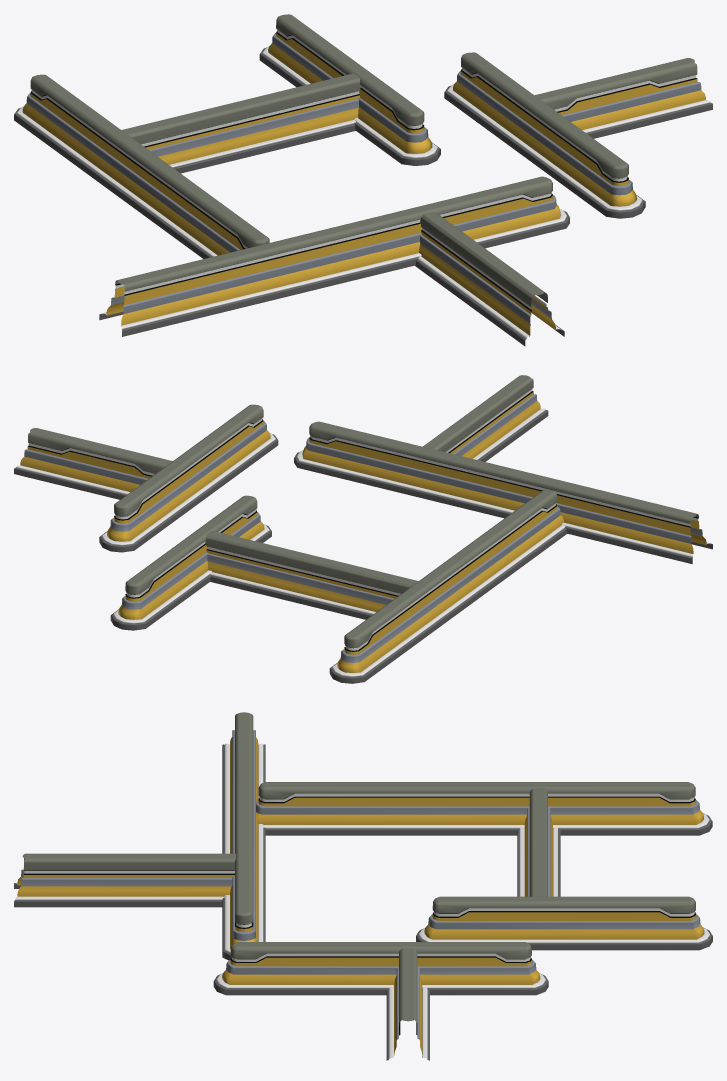
Rendered from Level37_Small_walls.fbx.
The picture shows the model from 3 angles, top to bottom: view 1: azimuth 30°, elevation 25°; view 2: azimuth 150°, elevation 25°; view 3: azimuth 270°, elevation 25°; orthographic projection. The views are drawn at different scales.
Visible parts, largest first — view 1: Small_wallv1_41, Small_wallv1_40, Small_wall_L47, Small_wallv1_20, Small_wallv1_21, Small_wall_L64, Small_wallv1_4; view 2: Small_wallv1_41, Small_wallv1_40, Small_wall_L47, Small_wallv1_20, Small_wallv1_21, Small_wallv1_4, Small_wall_L64; view 3: Small_wallv1_40, Small_wallv1_20, Small_wallv1_21, Small_wall_L64, Small_wallv1_41, Small_wall_L47, Small_wallv1_4.
Boxes of the visible parts, x1,y1,x2,y2 form: Small_wallv1_41: (99,176,569,336); Small_wallv1_40: (14,74,269,258); Small_wall_L47: (121,73,361,173); Small_wallv1_20: (444,52,645,218); Small_wallv1_21: (259,14,440,165); Small_wall_L64: (415,211,564,346); Small_wallv1_4: (534,58,712,138); Small_wallv1_41: (294,421,712,564); Small_wallv1_40: (329,489,566,683); Small_wall_L47: (205,530,418,619); Small_wallv1_20: (99,404,278,552); Small_wallv1_21: (110,495,271,630); Small_wallv1_4: (14,428,172,499); Small_wall_L64: (423,375,548,461); Small_wallv1_40: (255,782,712,835); Small_wallv1_20: (213,942,548,995); Small_wallv1_21: (416,896,712,950); Small_wall_L64: (14,853,235,907); Small_wallv1_41: (222,712,265,960); Small_wall_L47: (517,788,560,896); Small_wallv1_4: (386,948,429,1060).
Bounding box in the file's own units: 592 × 37.85 × 554.
